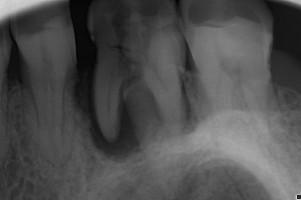Dental Caries: (71, 66, 140, 162), (182, 81, 199, 133)
